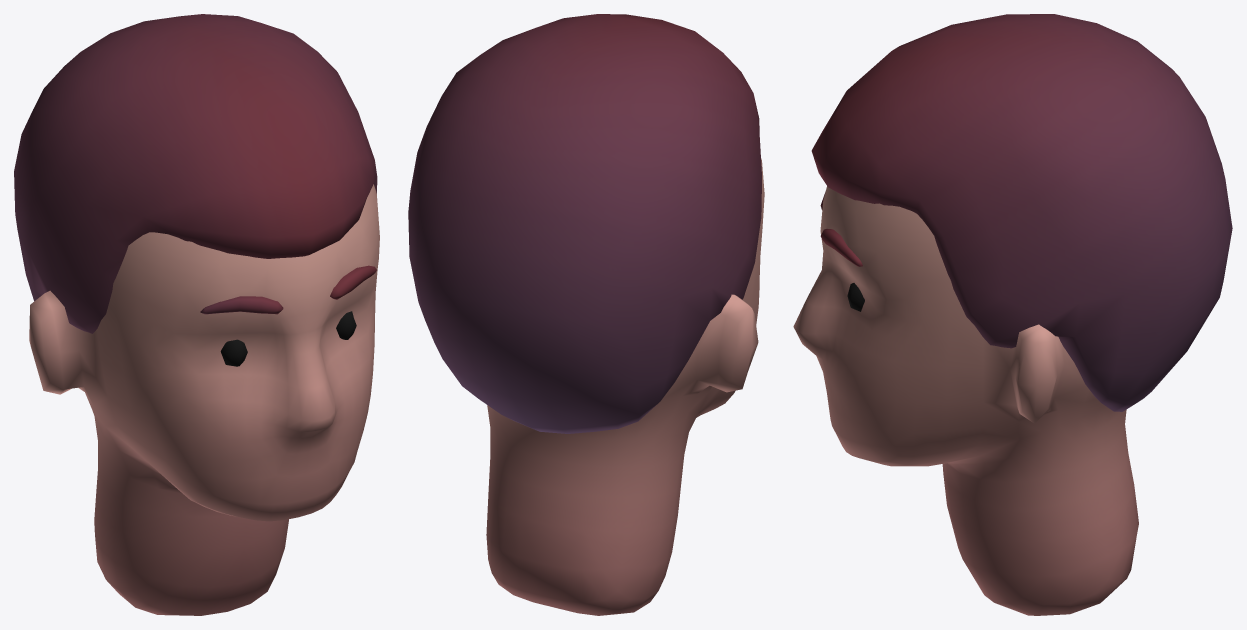
Rendered from apainter-head.gltf.
3 renders of one model, left to right at view 1: azimuth 30°, elevation 25°; view 2: azimuth 150°, elevation 25°; view 3: azimuth 270°, elevation 25°, orthographic. The views are drawn at different scales.
Parts seen in each view (by area): view 1: head, var-hair-normal; view 2: var-hair-normal, head; view 3: var-hair-normal, head.
Boxes of the visible parts, box(x1,y1,x2,y2) form: head: box(29, 184, 379, 615); var-hair-normal: box(14, 14, 377, 333); var-hair-normal: box(408, 14, 761, 433); head: box(486, 158, 764, 615); var-hair-normal: box(811, 14, 1232, 411); head: box(793, 186, 1138, 615).
Size of the model in its own units: 0.2488 by 0.4012 by 0.2853.
